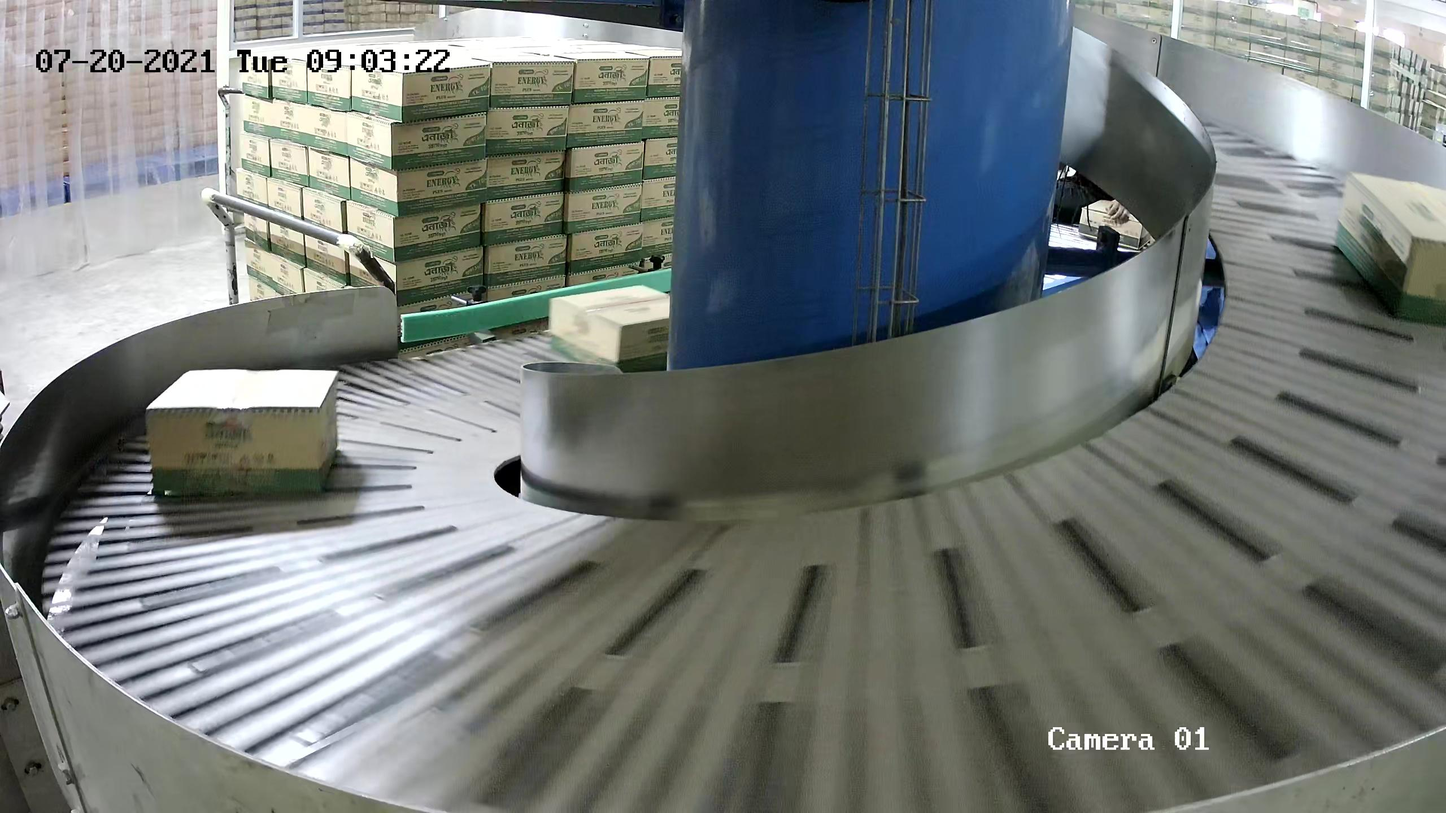Box: (144, 366, 340, 500), (1332, 170, 1446, 331), (548, 282, 698, 380)
